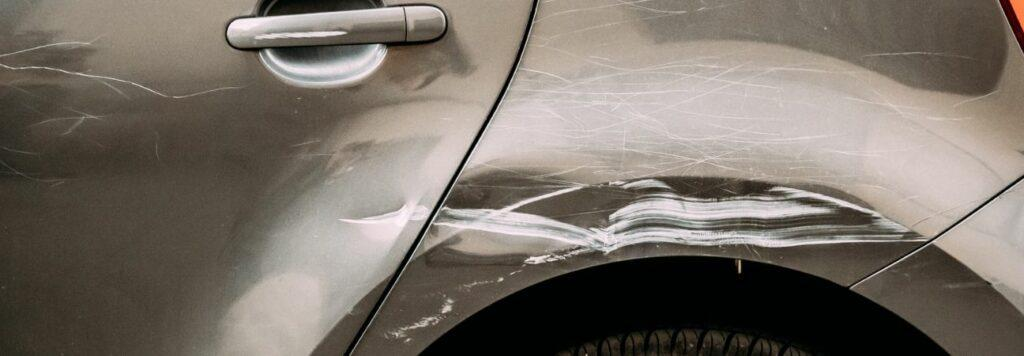dent: (352, 122, 721, 288)
scratch: (322, 175, 934, 346), (516, 0, 905, 198), (0, 25, 209, 201)
